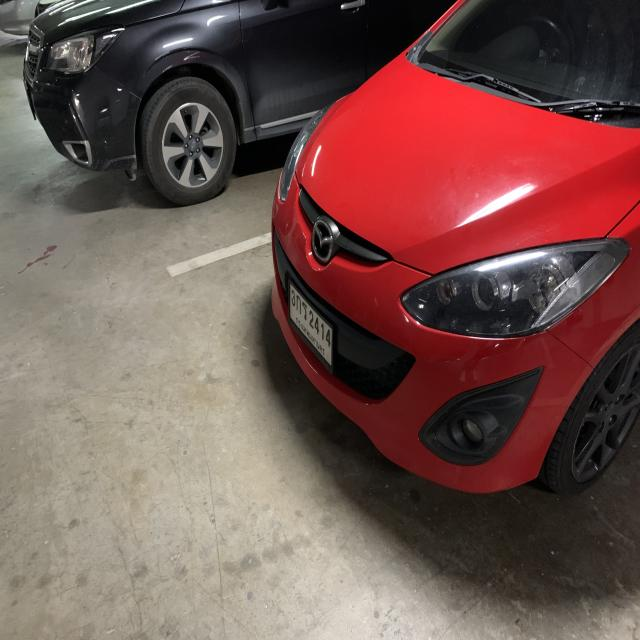license_plate: (286, 276, 336, 373)
